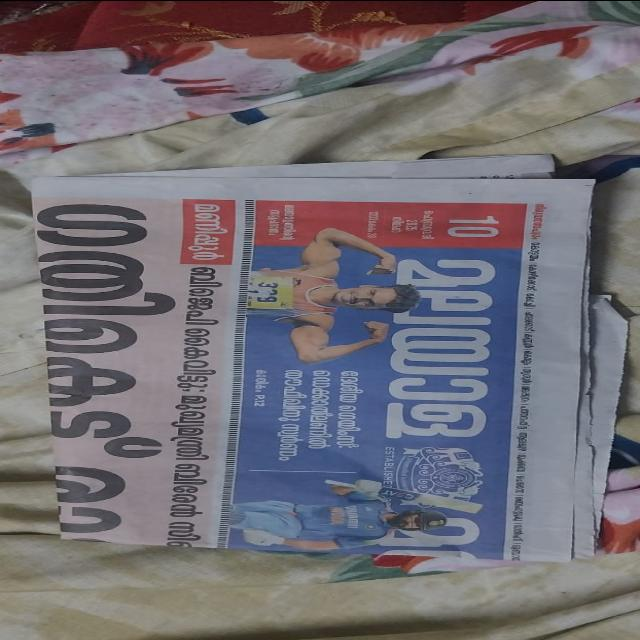Paper - Recyclable: (27, 164, 614, 564)
